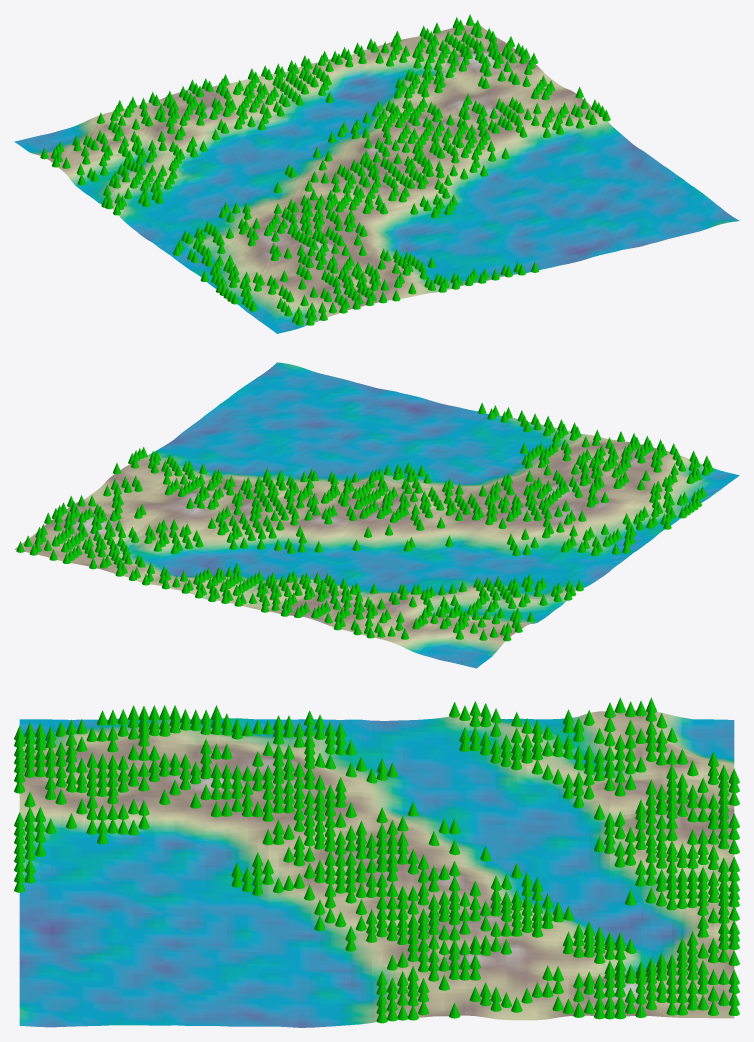
The model's file is 000008_with_tree.glb.
The picture shows the model from 3 angles, top to bottom: view 1: azimuth 30°, elevation 25°; view 2: azimuth 150°, elevation 25°; view 3: azimuth 270°, elevation 25°; orthographic projection. The views are drawn at different scales.
Parts seen in each view (by area): view 1: terrain, trees; view 2: terrain, trees; view 3: terrain, trees.
Boxes of the visible parts, left/top/right/bottom form: terrain: left=14, top=23, right=739, bottom=333; trees: left=40, top=14, right=610, bottom=325; terrain: left=14, top=362, right=739, bottom=668; trees: left=16, top=402, right=713, bottom=641; terrain: left=19, top=710, right=734, bottom=1027; trees: left=14, top=697, right=739, bottom=1023.
Bounding box in the file's own units: 0.0192 × 0.000865 × 0.0189.
